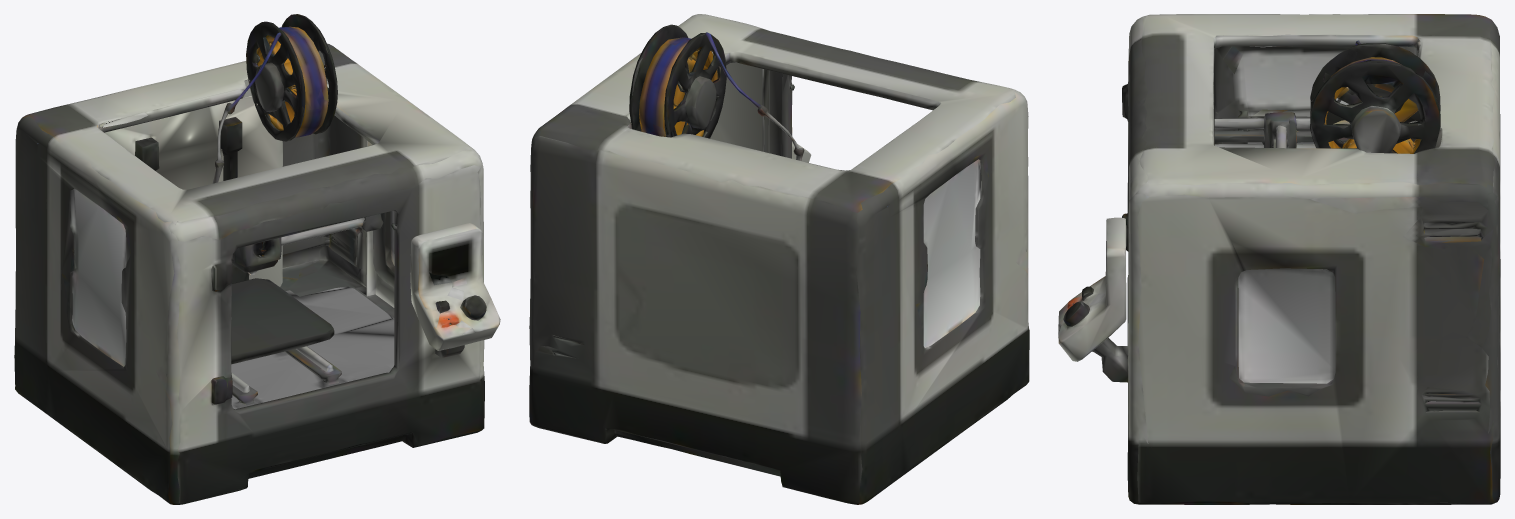
Rendered from 3d_printer.glb.
The picture shows the model from 3 angles, left to right: view 1: azimuth 30°, elevation 25°; view 2: azimuth 150°, elevation 25°; view 3: azimuth 270°, elevation 25°; orthographic projection. The views are drawn at different scales.
Parts seen in each view (by area): view 1: geometry_0; view 2: geometry_0; view 3: geometry_0.
Boxes of the visible parts, x1,y1,x2,y2 form: geometry_0: [14, 14, 500, 504]; geometry_0: [529, 14, 1029, 504]; geometry_0: [1058, 14, 1500, 504].
Size of the model in its own units: 0.9435 by 1 by 0.9916.
1 material, 1 textured.
